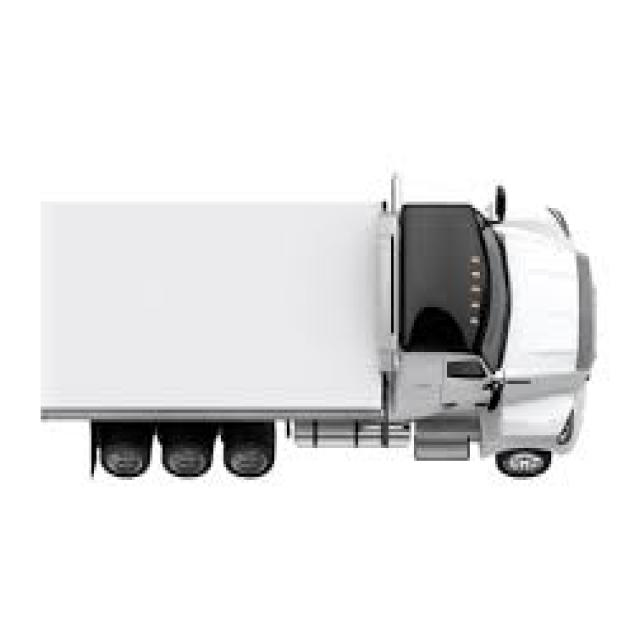truck: (29, 192, 580, 471)
